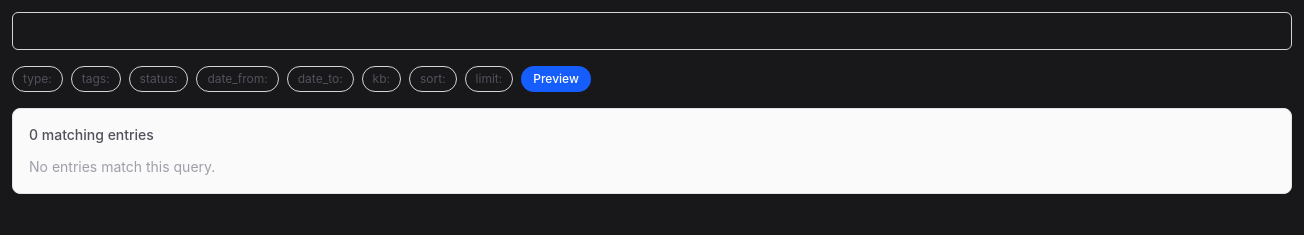
Test case: QueryBuilder › preview shows entry titles
Click the button "Preview". click: (556,79)
box: [521,66,591,92]
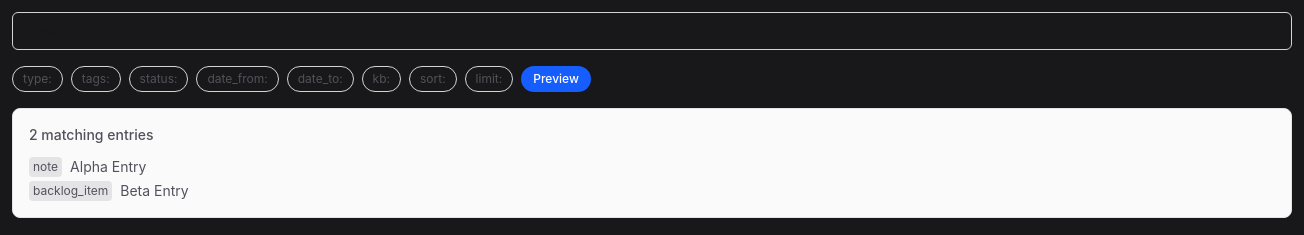
Check: the text "Alpha Entry" is shown, box [70,157,146,177]
Check: the text "Beta Entry" is shown, box [120,181,189,201]
